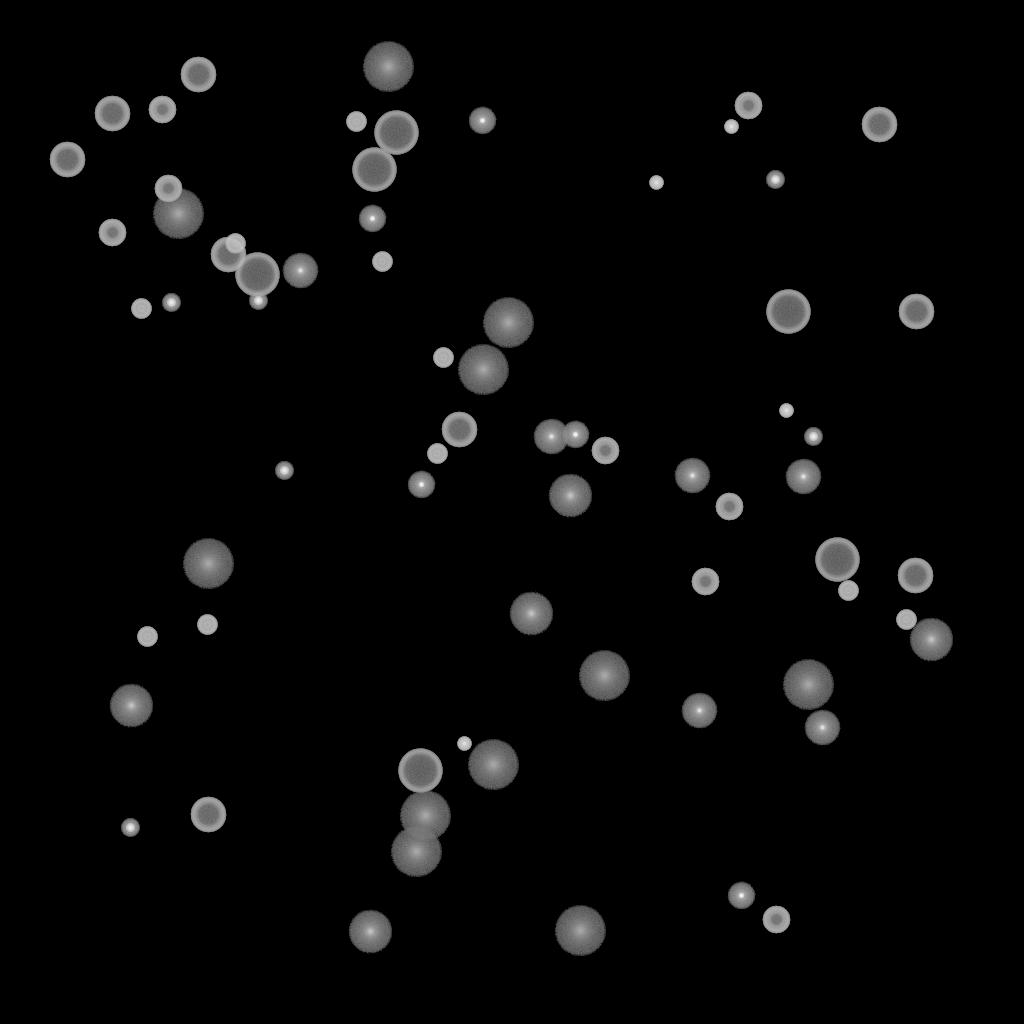depth:-10: (358, 205, 386, 233), (468, 107, 496, 135), (727, 882, 755, 910), (407, 471, 435, 499), (561, 421, 589, 449)
depth:-20: (249, 292, 267, 310), (121, 819, 139, 837), (766, 171, 784, 189), (275, 462, 293, 480), (804, 428, 822, 446), (162, 294, 180, 312)
depth:-30: (724, 120, 738, 134), (457, 737, 471, 751), (779, 404, 793, 418), (649, 176, 663, 190)
depth:-40: (427, 444, 447, 464), (372, 252, 392, 272), (346, 112, 366, 132), (225, 234, 245, 254), (896, 610, 916, 630), (433, 348, 453, 368), (131, 299, 151, 319), (137, 627, 157, 647), (197, 615, 217, 635), (838, 581, 858, 601)
depth:-50: (762, 906, 790, 934), (715, 493, 743, 521), (691, 568, 719, 596), (734, 92, 762, 120), (148, 96, 176, 124), (591, 437, 619, 465), (154, 175, 182, 203), (98, 219, 126, 247)
depth:-60: (94, 96, 130, 132), (441, 412, 477, 448), (210, 237, 246, 273), (49, 142, 85, 178), (190, 797, 226, 833), (180, 57, 216, 93), (861, 107, 897, 143), (898, 294, 934, 330), (897, 558, 933, 594)
depth:-70: (815, 538, 859, 582), (766, 290, 810, 334), (374, 111, 418, 155), (235, 253, 279, 297), (352, 148, 396, 192), (398, 749, 442, 793)
depth:0: (804, 710, 840, 746), (785, 459, 821, 495), (674, 458, 710, 494), (533, 419, 569, 455), (681, 693, 717, 729), (282, 253, 318, 289)
depth:10: (109, 684, 153, 728), (348, 910, 392, 954), (909, 618, 953, 662), (509, 592, 553, 636), (548, 474, 592, 518)
depth:20: (362, 42, 414, 92), (457, 345, 509, 395), (182, 539, 234, 589), (152, 189, 204, 239), (554, 906, 606, 956), (399, 791, 451, 841), (782, 660, 834, 710), (578, 651, 630, 701), (467, 740, 519, 790), (390, 827, 442, 877), (482, 298, 534, 348)
